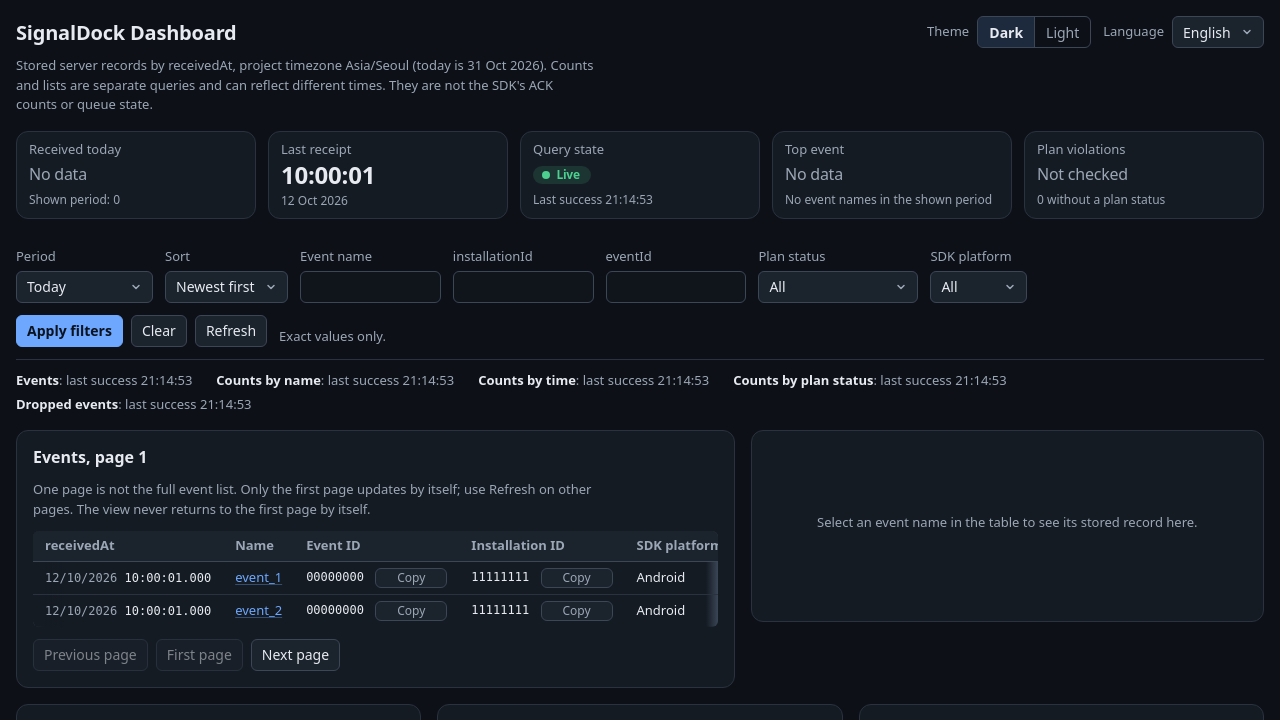
it: App (en) › plan status (ADR-0022) › shows the status in the details
What coordinates should you click on to do the following:
click the button "event_1"
I would click on:
 (259, 578)
Its box is [235,568,282,587].
(page scrolled)
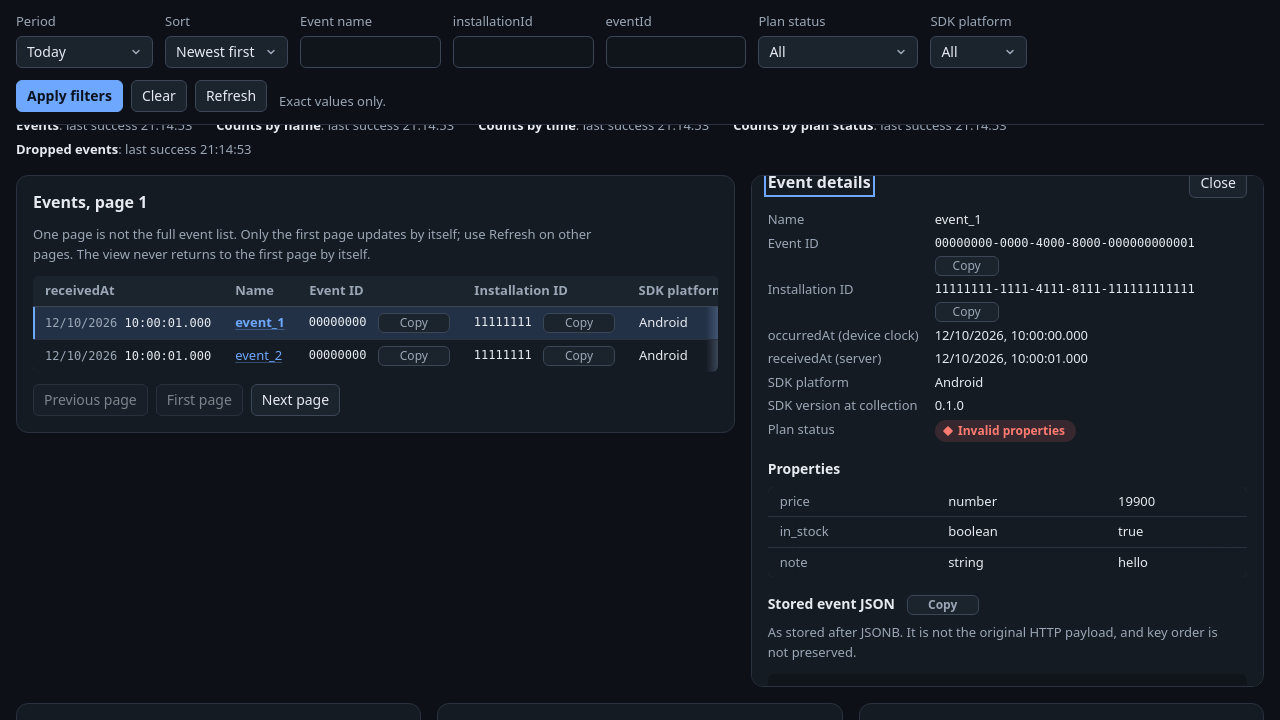
Expected: the element showing "Invalid properties" is shown, [935,420,1076,442]
